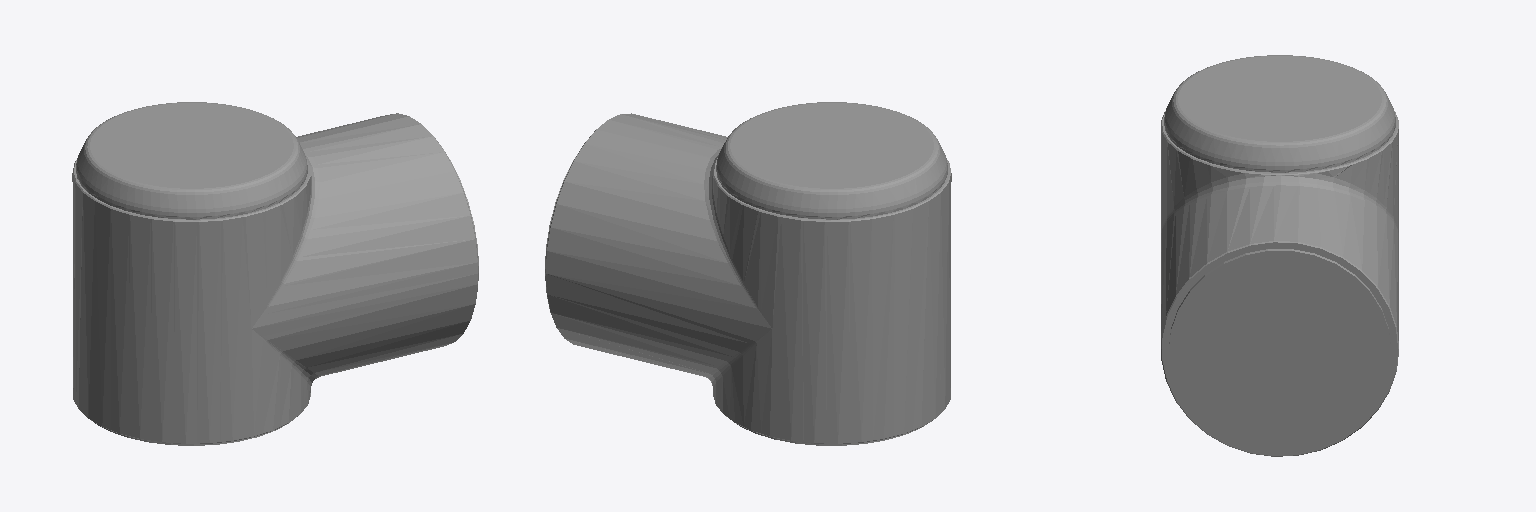
Rendered from wrist_flex_link.obj.
3 renders of one model, left to right at view 1: azimuth 30°, elevation 25°; view 2: azimuth 150°, elevation 25°; view 3: azimuth 270°, elevation 25°, orthographic.
Parts seen in each view (by area): view 1: wrist_flex_link_wrist_flex_link; view 2: wrist_flex_link_wrist_flex_link; view 3: wrist_flex_link_wrist_flex_link.
Part boxes in pixels (x1,y1,x2,y2): wrist_flex_link_wrist_flex_link: (72,102,478,445); wrist_flex_link_wrist_flex_link: (545,102,951,445); wrist_flex_link_wrist_flex_link: (1161,55,1398,456).
Bounding box in the file's own units: 0.1685 × 0.121 × 0.104.